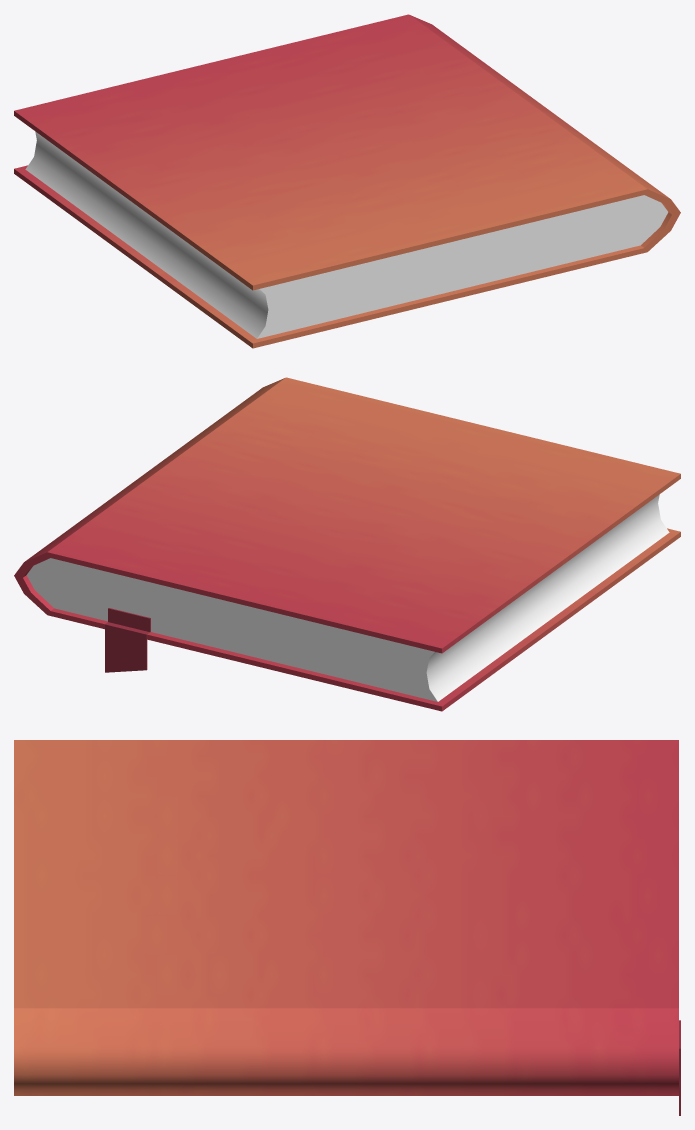
File: book4.fbx
3 renders of one model, top to bottom at view 1: azimuth 30°, elevation 25°; view 2: azimuth 150°, elevation 25°; view 3: azimuth 270°, elevation 25°, orthographic. The views are drawn at different scales.
Visible parts, largest first — view 1: book4; view 2: book4; view 3: book4.
Boxes of the visible parts, x1=… form: book4: x1=14, y1=14, x2=680, y2=348; book4: x1=14, y1=377, x2=680, y2=711; book4: x1=14, y1=740, x2=680, y2=1115.
Bounding box in the file's own units: 25.86 × 6.11 × 25.06.
